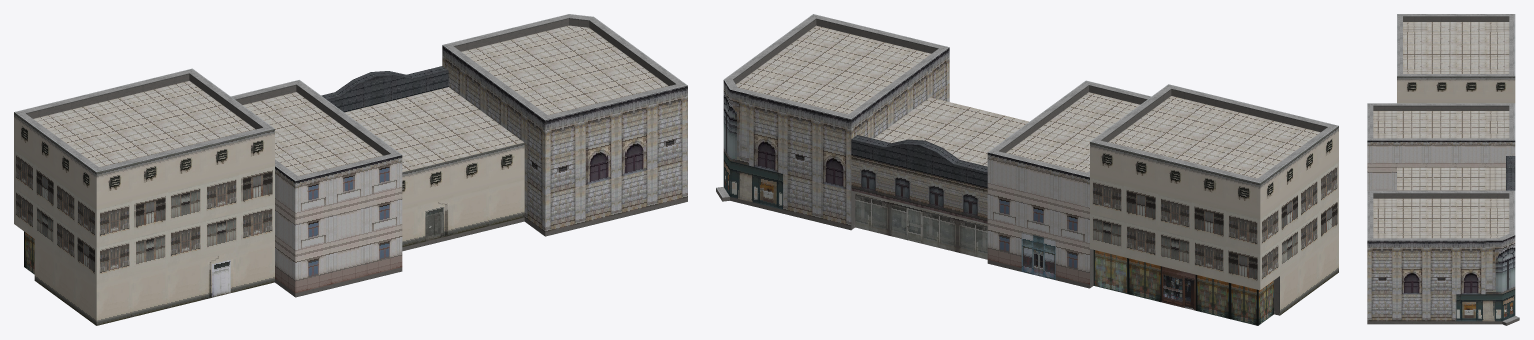
Rendered from building_06_smooth.glb.
3 renders of one model, left to right at view 1: azimuth 30°, elevation 25°; view 2: azimuth 150°, elevation 25°; view 3: azimuth 270°, elevation 25°, orthographic. The views are drawn at different scales.
Parts seen in each view (by area): view 1: building_06_smooth2; view 2: building_06_smooth2; view 3: building_06_smooth2.
Boxes of the visible parts, x1,y1,x2,y2 form: building_06_smooth2: [14, 14, 687, 325]; building_06_smooth2: [716, 14, 1338, 325]; building_06_smooth2: [1367, 14, 1519, 325].
Size of the model in its own units: 80.71 by 20.57 by 25.71.
1 material, 1 textured.
